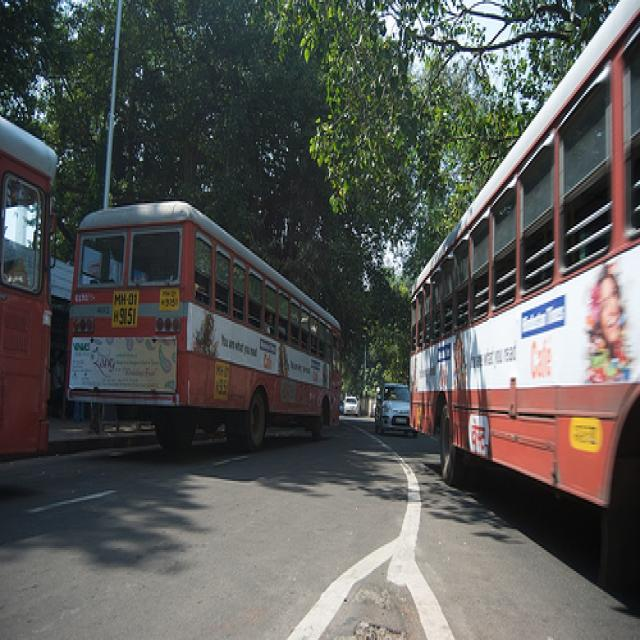Vehicle: (411, 2, 640, 570), (72, 206, 344, 458), (1, 114, 60, 462), (376, 383, 418, 439), (342, 396, 358, 418)
